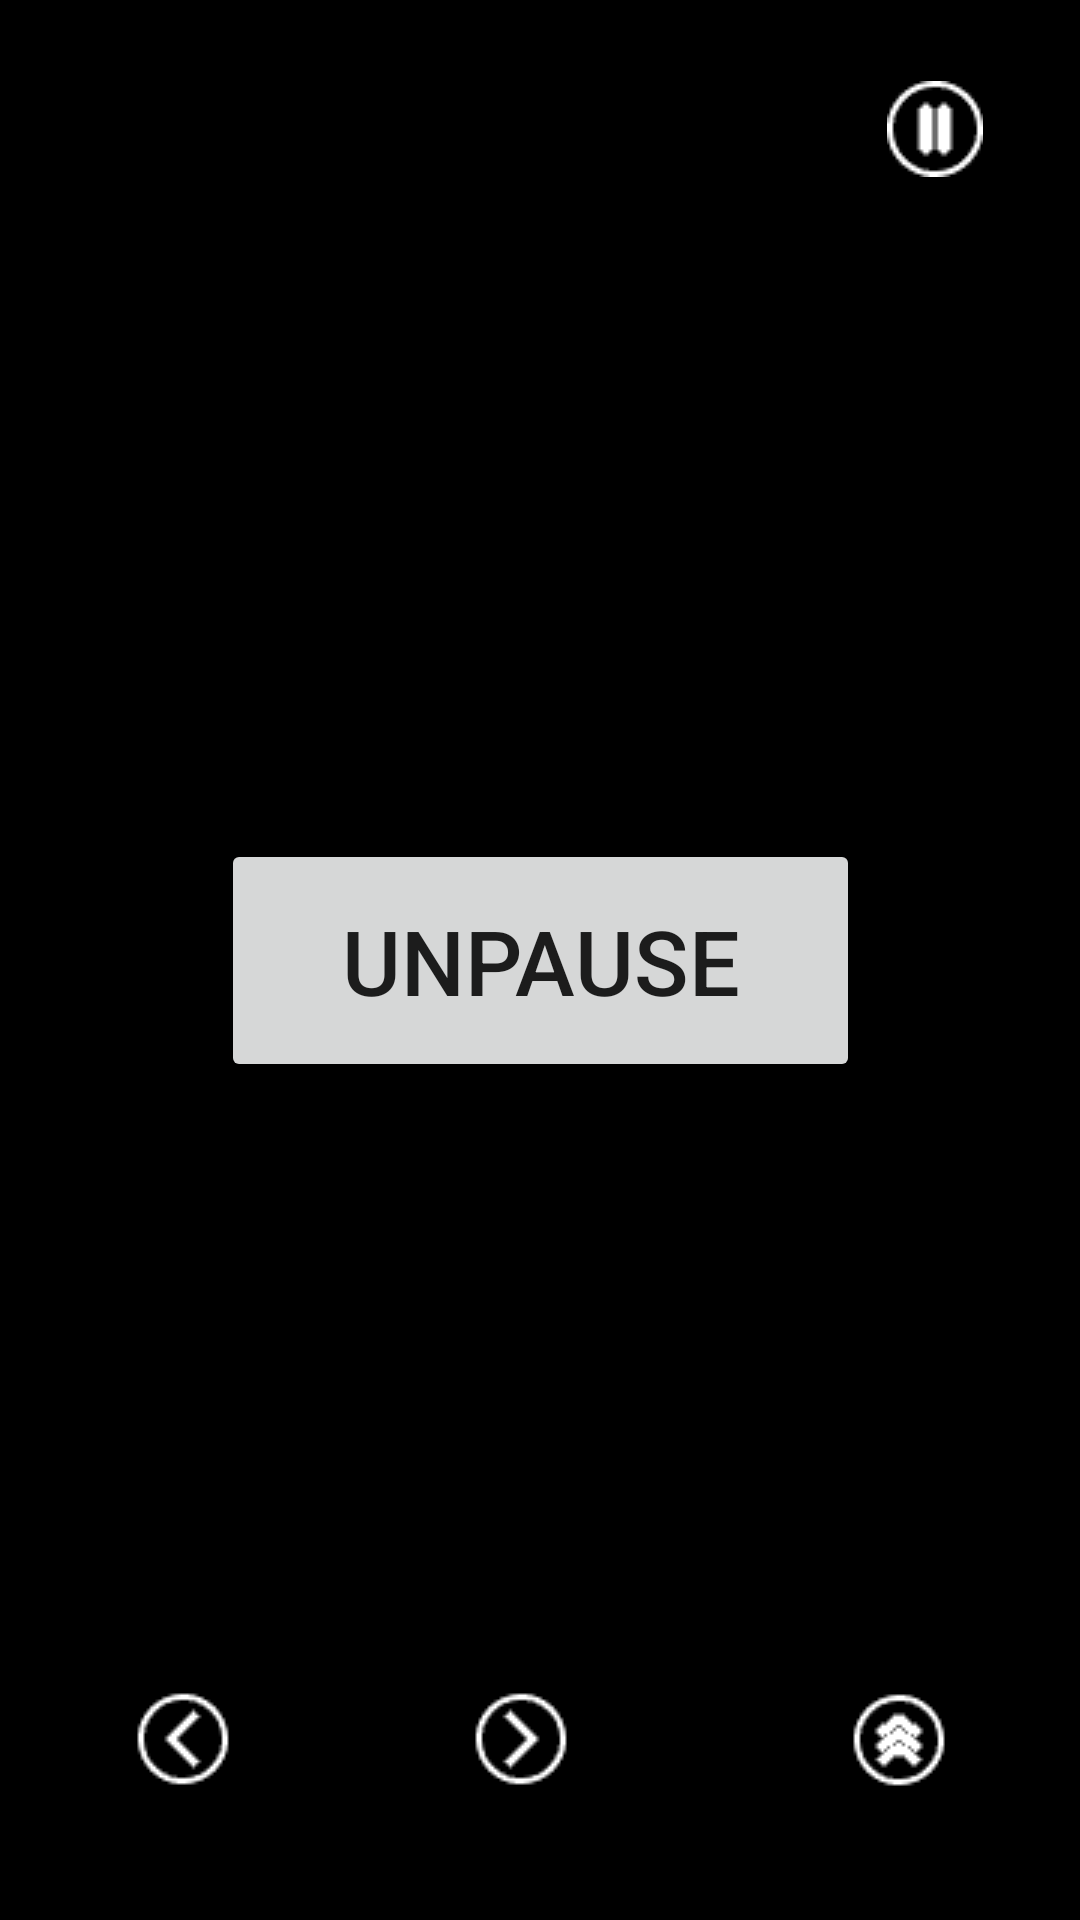

Named icons in this screenshot (1080x1920) and their centers, (x=x, y=y):
left: (x=183, y=1739)
pause: (x=935, y=129)
right: (x=521, y=1739)
